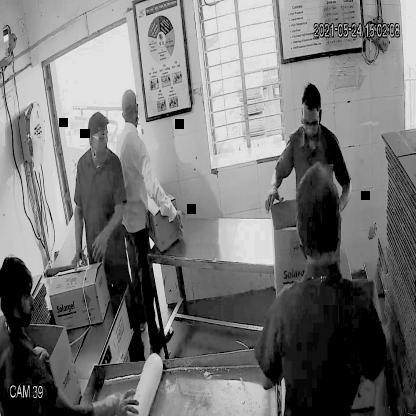goggles: (298, 112, 322, 134), (86, 130, 110, 147)
